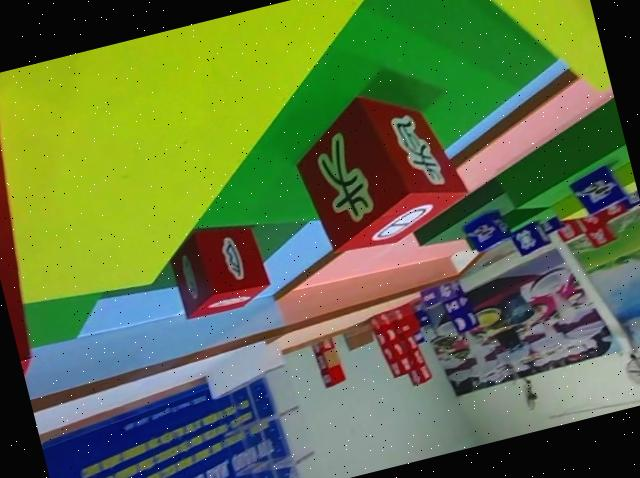R2 Fake: (283, 74, 479, 264)
R2 Real: (162, 213, 277, 325)
